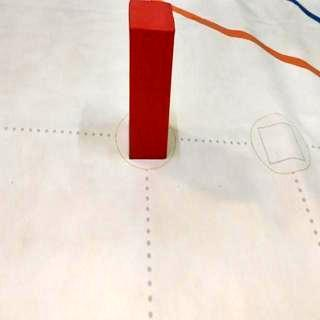redbox: (128, 1, 176, 160)
